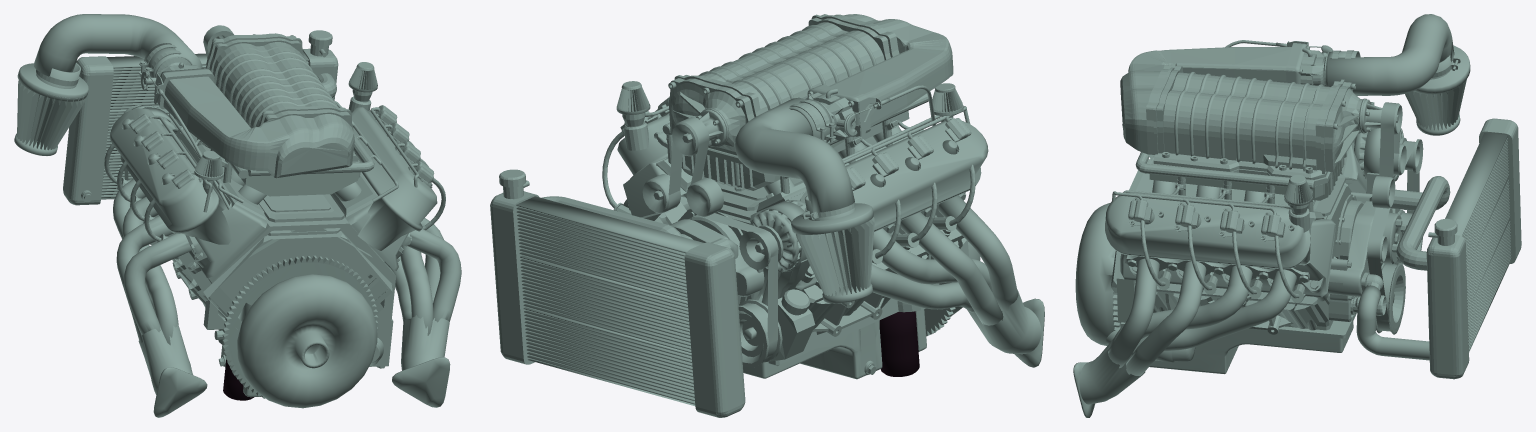
The model's file is engine.glb.
3 views of the same model, side by side, from view 1: azimuth 30°, elevation 25°; view 2: azimuth 150°, elevation 25°; view 3: azimuth 270°, elevation 25° (orthographic). The views are drawn at different scales.
Visible parts, largest first — view 1: New_Game_Object_MaterialStandart__Instance__0.002, New_Game_Object_MaterialStandart__Instance__0.033, New_Game_Object_MaterialStandart__Instance__0.269, New_Game_Object_MaterialStandart__Instance__0.159, New_Game_Object_MaterialStandart__Instance__0.183, New_Game_Object_Clone__MaterialStandart__Instance__0.002, New_Game_Object_MaterialStandart__Instance__0.023, New_Game_Object_MaterialStandart__Instance__0.113, New_Game_Object_MaterialStandart__Instance__0.011, New_Game_Object_MaterialStandart__Instance__0.131, New_Game_Object_MaterialStandart__Instance__0.001, New_Game_Object_MaterialStandart__Instance__0.270 (+23 smaller); view 2: New_Game_Object_MaterialStandart__Instance__0.114, New_Game_Object_MaterialStandart__Instance__0.113, New_Game_Object_MaterialStandart__Instance__0.269, New_Game_Object_MaterialStandart__Instance__0.159, New_Game_Object_MaterialStandart__Instance__0.023, New_Game_Object_MaterialStandart__Instance__0.011, New_Game_Object_MaterialStandart__Instance__0.033, New_Game_Object_MaterialStandart__Instance__0.148, New_Game_Object_MaterialStandart__Instance__0.270, New_Game_Object_MaterialStandart__Instance__0.067, New_Game_Object_MaterialStandart__Instance__0.009, New_Game_Object_MaterialStandart__Instance__0.149 (+33 smaller); view 3: New_Game_Object_MaterialStandart__Instance__0.023, New_Game_Object_MaterialStandart__Instance__0.131, New_Game_Object_MaterialStandart__Instance__0.114, New_Game_Object_Clone__MaterialStandart__Instance__0.002, New_Game_Object_MaterialStandart__Instance__0.113, New_Game_Object_MaterialStandart__Instance__0.033, New_Game_Object_MaterialStandart__Instance__0.011, New_Game_Object_MaterialStandart__Instance__0.002, New_Game_Object_MaterialStandart__Instance__0.009, New_Game_Object_MaterialStandart__Instance__0.130, New_Game_Object_MaterialStandart__Instance__0.270, New_Game_Object_MaterialStandart__Instance__0.149 (+34 smaller).
Part boxes in pixels (x1,y1,x2,y2): New_Game_Object_MaterialStandart__Instance__0.002: [237, 274, 377, 408]; New_Game_Object_MaterialStandart__Instance__0.033: [158, 71, 354, 178]; New_Game_Object_MaterialStandart__Instance__0.269: [116, 216, 207, 417]; New_Game_Object_MaterialStandart__Instance__0.159: [109, 108, 232, 244]; New_Game_Object_MaterialStandart__Instance__0.183: [203, 217, 395, 329]; New_Game_Object_Clone__MaterialStandart__Instance__0.002: [392, 218, 461, 407]; New_Game_Object_MaterialStandart__Instance__0.023: [207, 36, 345, 128]; New_Game_Object_MaterialStandart__Instance__0.113: [63, 48, 338, 205]; New_Game_Object_MaterialStandart__Instance__0.011: [34, 14, 202, 76]; New_Game_Object_MaterialStandart__Instance__0.131: [351, 107, 437, 250]; New_Game_Object_MaterialStandart__Instance__0.001: [222, 255, 378, 398]; New_Game_Object_MaterialStandart__Instance__0.270: [154, 215, 393, 345]; New_Game_Object_MaterialStandart__Instance__0.114: [516, 196, 703, 405]; New_Game_Object_MaterialStandart__Instance__0.113: [490, 191, 745, 417]; New_Game_Object_MaterialStandart__Instance__0.269: [900, 195, 1044, 367]; New_Game_Object_MaterialStandart__Instance__0.159: [799, 120, 988, 231]; New_Game_Object_MaterialStandart__Instance__0.023: [683, 16, 892, 114]; New_Game_Object_MaterialStandart__Instance__0.011: [735, 97, 854, 212]; New_Game_Object_MaterialStandart__Instance__0.033: [817, 14, 953, 132]; New_Game_Object_MaterialStandart__Instance__0.148: [642, 122, 783, 367]; New_Game_Object_MaterialStandart__Instance__0.270: [678, 204, 968, 366]; New_Game_Object_MaterialStandart__Instance__0.067: [796, 216, 874, 296]; New_Game_Object_MaterialStandart__Instance__0.009: [743, 309, 926, 379]; New_Game_Object_MaterialStandart__Instance__0.149: [641, 117, 778, 358]; New_Game_Object_MaterialStandart__Instance__0.023: [1156, 63, 1339, 171]; New_Game_Object_MaterialStandart__Instance__0.131: [1105, 192, 1310, 269]; New_Game_Object_MaterialStandart__Instance__0.114: [1445, 133, 1511, 352]; New_Game_Object_Clone__MaterialStandart__Instance__0.002: [1073, 258, 1206, 417]; New_Game_Object_MaterialStandart__Instance__0.113: [1426, 118, 1521, 379]; New_Game_Object_MaterialStandart__Instance__0.033: [1120, 43, 1297, 160]; New_Game_Object_MaterialStandart__Instance__0.011: [1327, 14, 1454, 95]; New_Game_Object_MaterialStandart__Instance__0.002: [1075, 203, 1115, 345]; New_Game_Object_MaterialStandart__Instance__0.009: [1149, 313, 1356, 374]; New_Game_Object_MaterialStandart__Instance__0.130: [1120, 219, 1335, 302]; New_Game_Object_MaterialStandart__Instance__0.270: [1111, 170, 1351, 334]; New_Game_Object_MaterialStandart__Instance__0.149: [1367, 102, 1419, 331].
Bounding box in the file's own units: 41.75 × 37.87 × 49.58.
